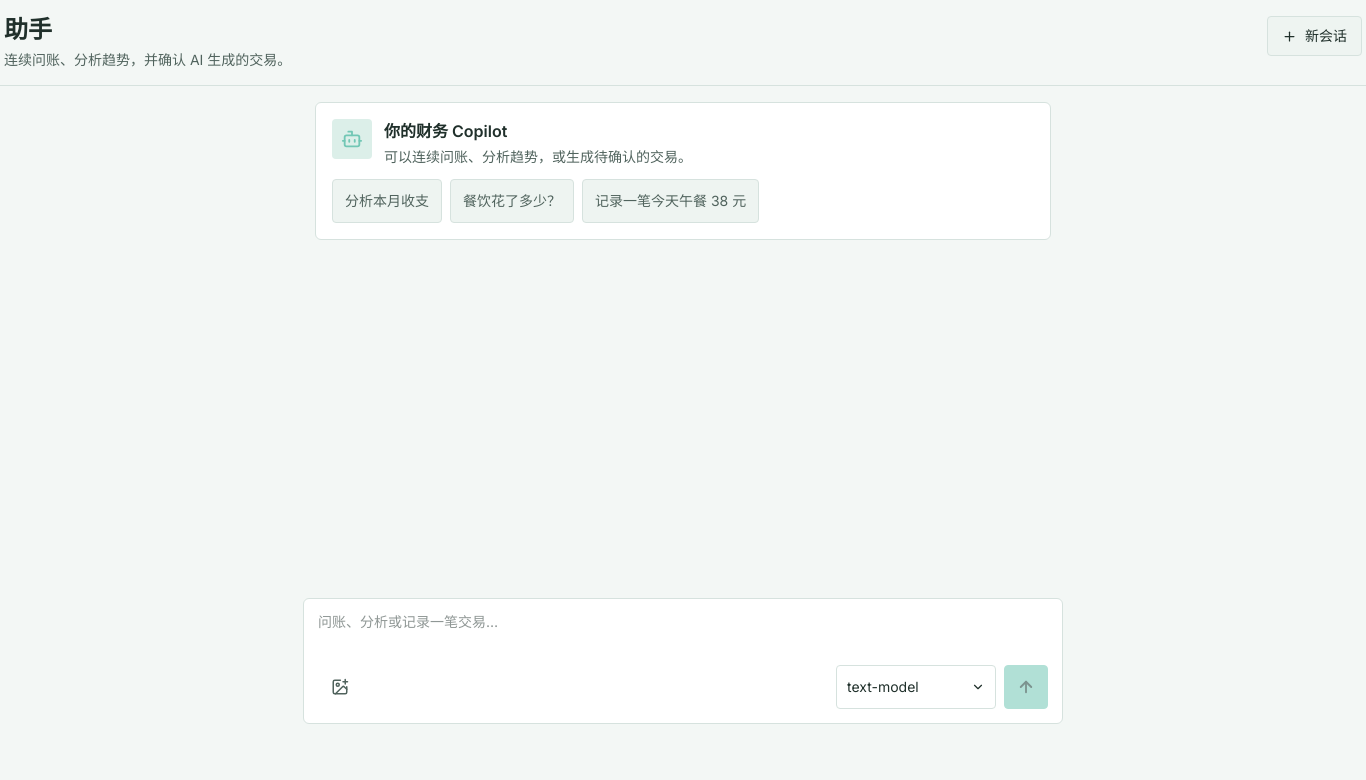
AiHubView › renders streaming text and concise tool status
Type "餐饮花了多少？" into the text box named "输入消息" at coordinates (683, 635), box [318,613,1048,657]
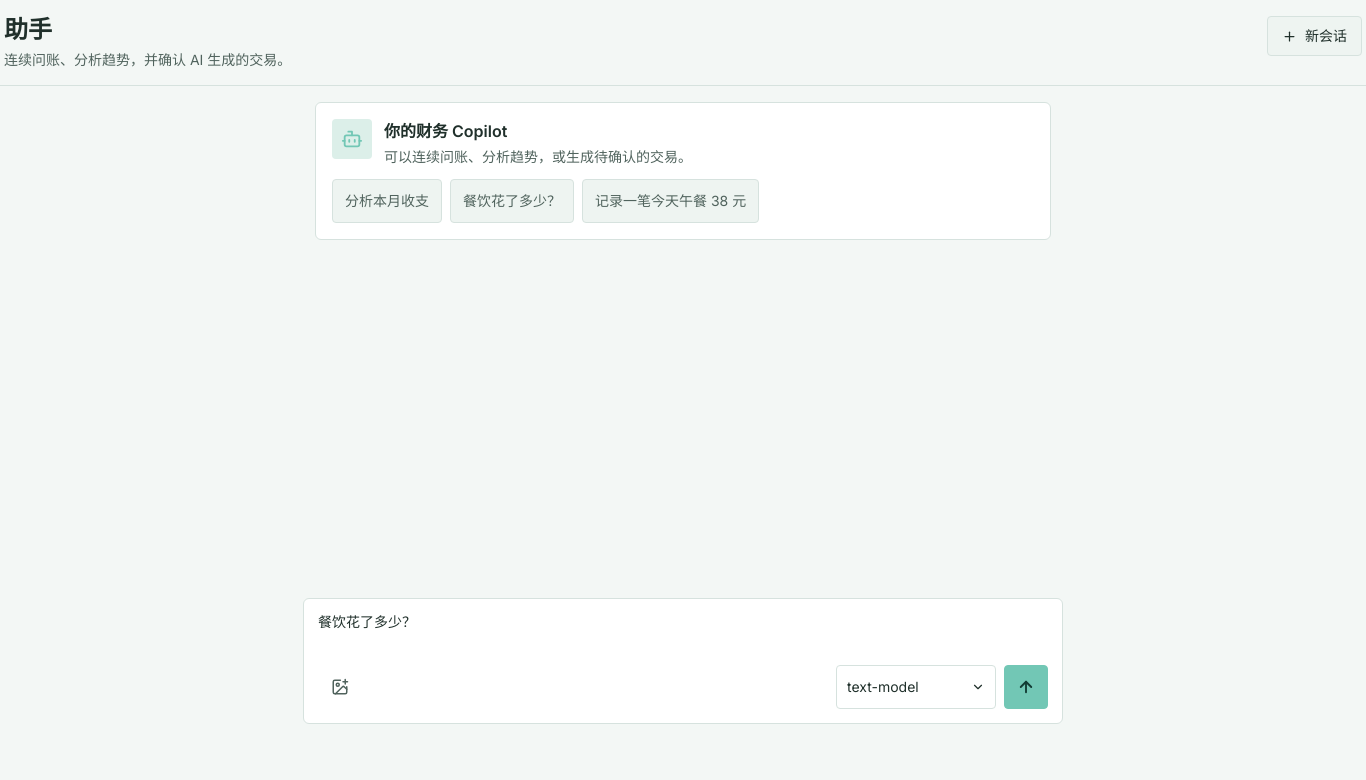
Click the button named "发送" at coordinates (1026, 687), box [1004,665,1048,709]
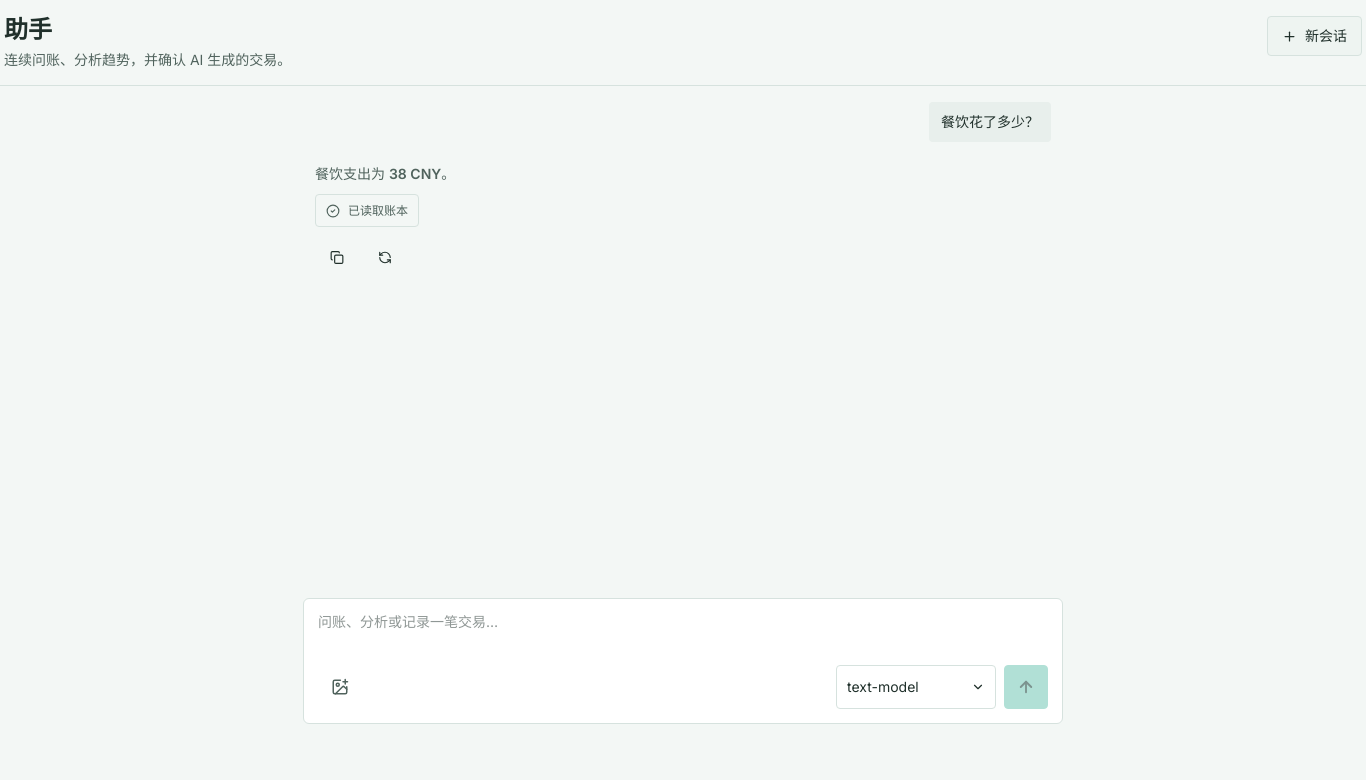
expect the text "已读取账本" is shown: met, box [348,201,408,220]
expect the text "38 CNY" is shown: met, box [389,165,441,182]
